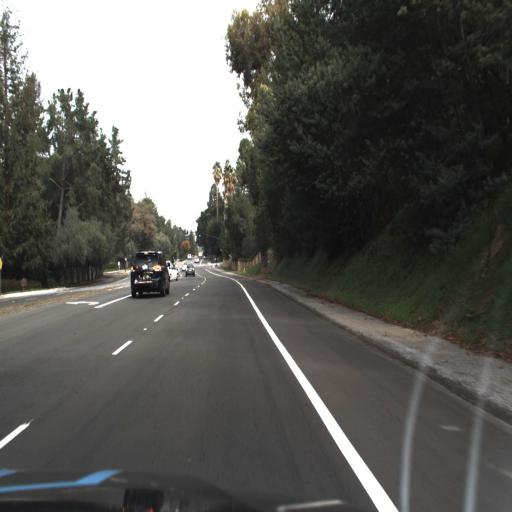car: (131, 247, 170, 301), (183, 260, 197, 282)
